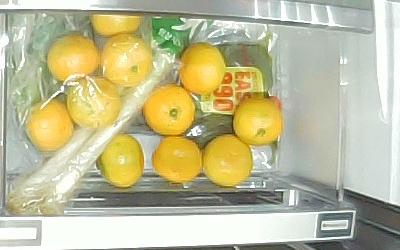tangerine: (95, 133, 145, 188), (202, 134, 254, 186), (142, 83, 194, 134), (152, 136, 202, 183), (233, 98, 283, 144), (180, 42, 225, 93)
tangerine_vinyl: (67, 76, 121, 128), (100, 33, 153, 85), (47, 33, 99, 82), (24, 100, 74, 150), (91, 15, 143, 36)
